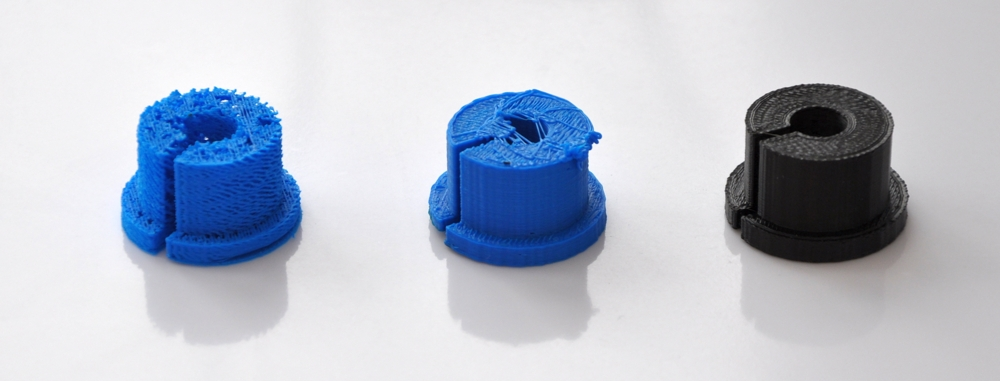Spaghetti: (426, 84, 623, 286), (109, 94, 318, 260)
